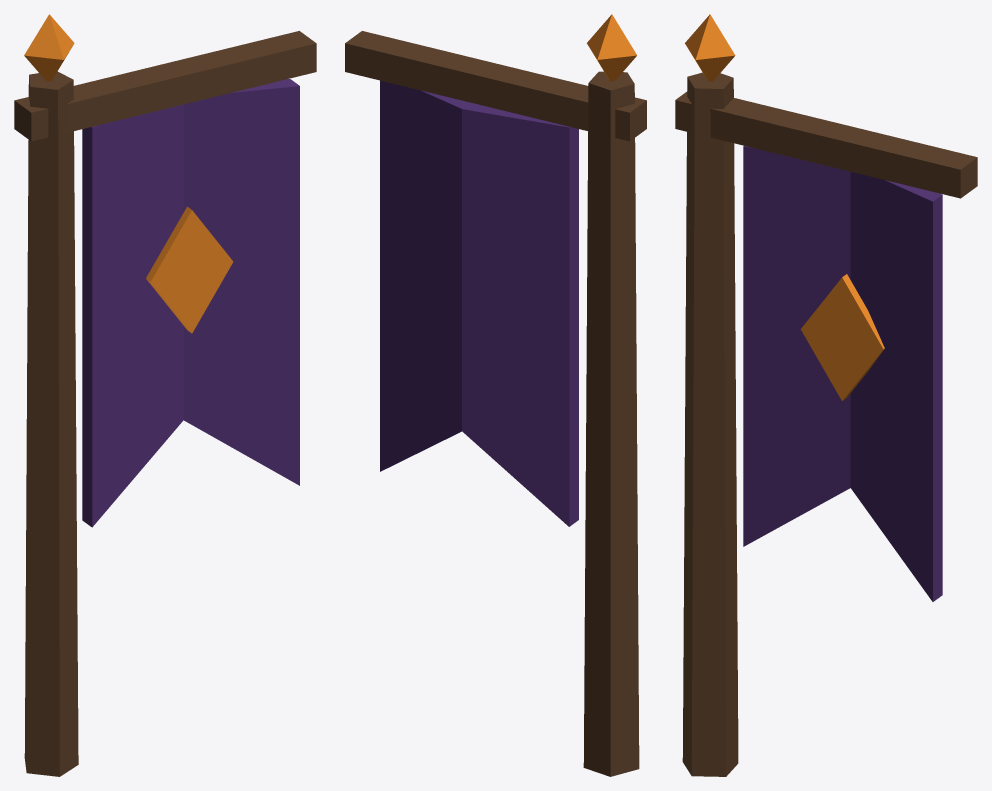
File: deco_banner.glb
The picture shows the model from 3 angles, left to right: view 1: azimuth 30°, elevation 25°; view 2: azimuth 150°, elevation 25°; view 3: azimuth 330°, elevation 25°; orthographic projection.
Parts seen in each view (by area): view 1: deco_banner_mesh; view 2: deco_banner_mesh; view 3: deco_banner_mesh.
Part boxes in pixels (x1,y1,x2,y2): deco_banner_mesh: [14, 14, 316, 776]; deco_banner_mesh: [345, 14, 646, 776]; deco_banner_mesh: [675, 14, 977, 776].
Bounding box in the file's own units: 0.135 × 0.34 × 0.024.
